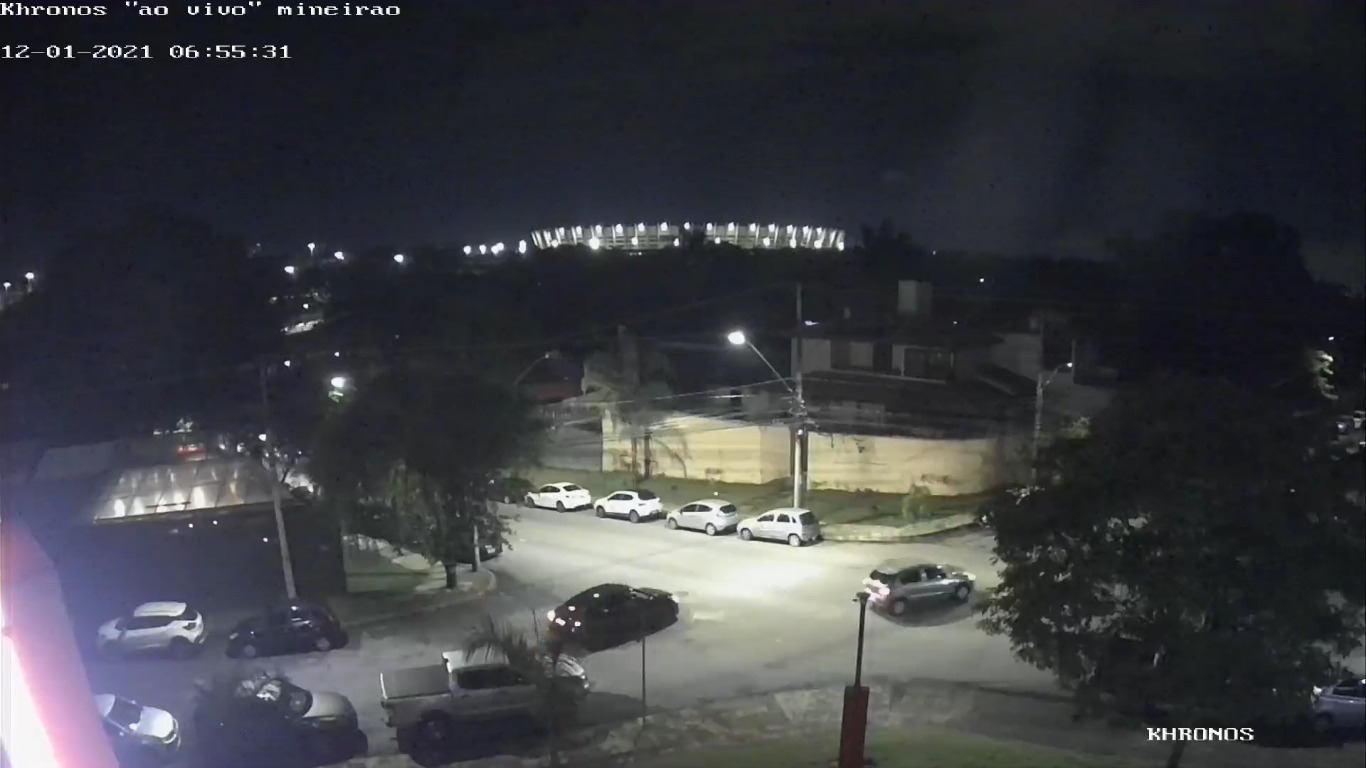car: (376, 642, 594, 745), (545, 581, 681, 650), (224, 595, 346, 660), (93, 596, 208, 661), (857, 554, 977, 614), (735, 503, 824, 548), (666, 496, 740, 535), (594, 487, 665, 522), (525, 480, 593, 512)
